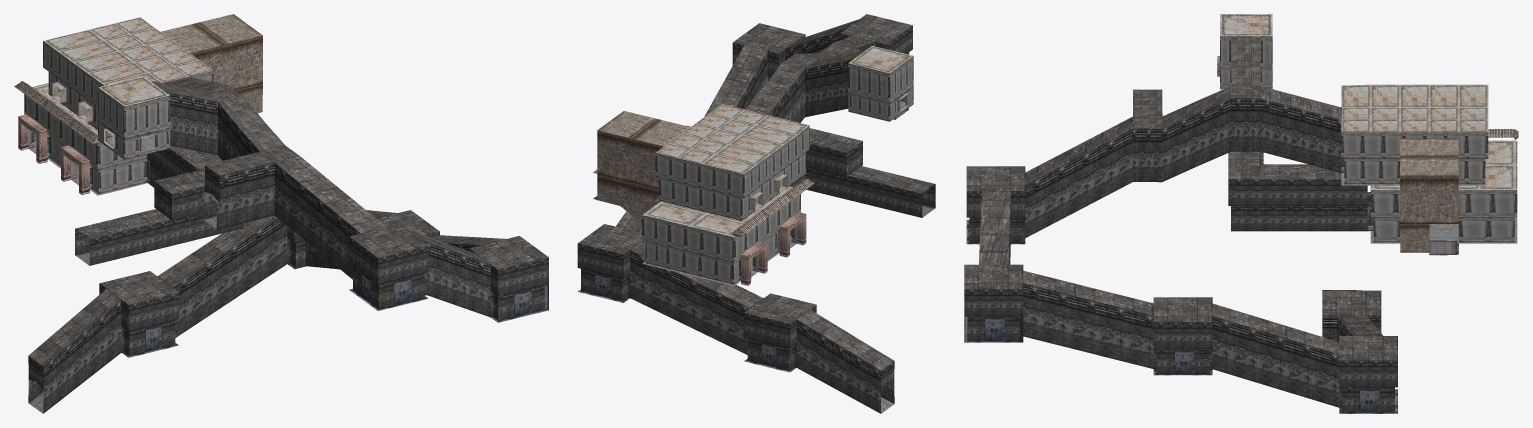
The picture shows the model from 3 angles, left to right: view 1: azimuth 30°, elevation 25°; view 2: azimuth 150°, elevation 25°; view 3: azimuth 270°, elevation 25°; orthographic projection. The views are drawn at different scales.
Visible parts, largest first — view 1: Box304; view 2: Box304; view 3: Box304.
Boxes of the visible parts, x1,y1,x2,y2 form: Box304: (14,14,548,413); Box304: (577,14,935,413); Box304: (964,14,1518,413).
Size of the model in its own units: 1290 by 1271 by 1887.
